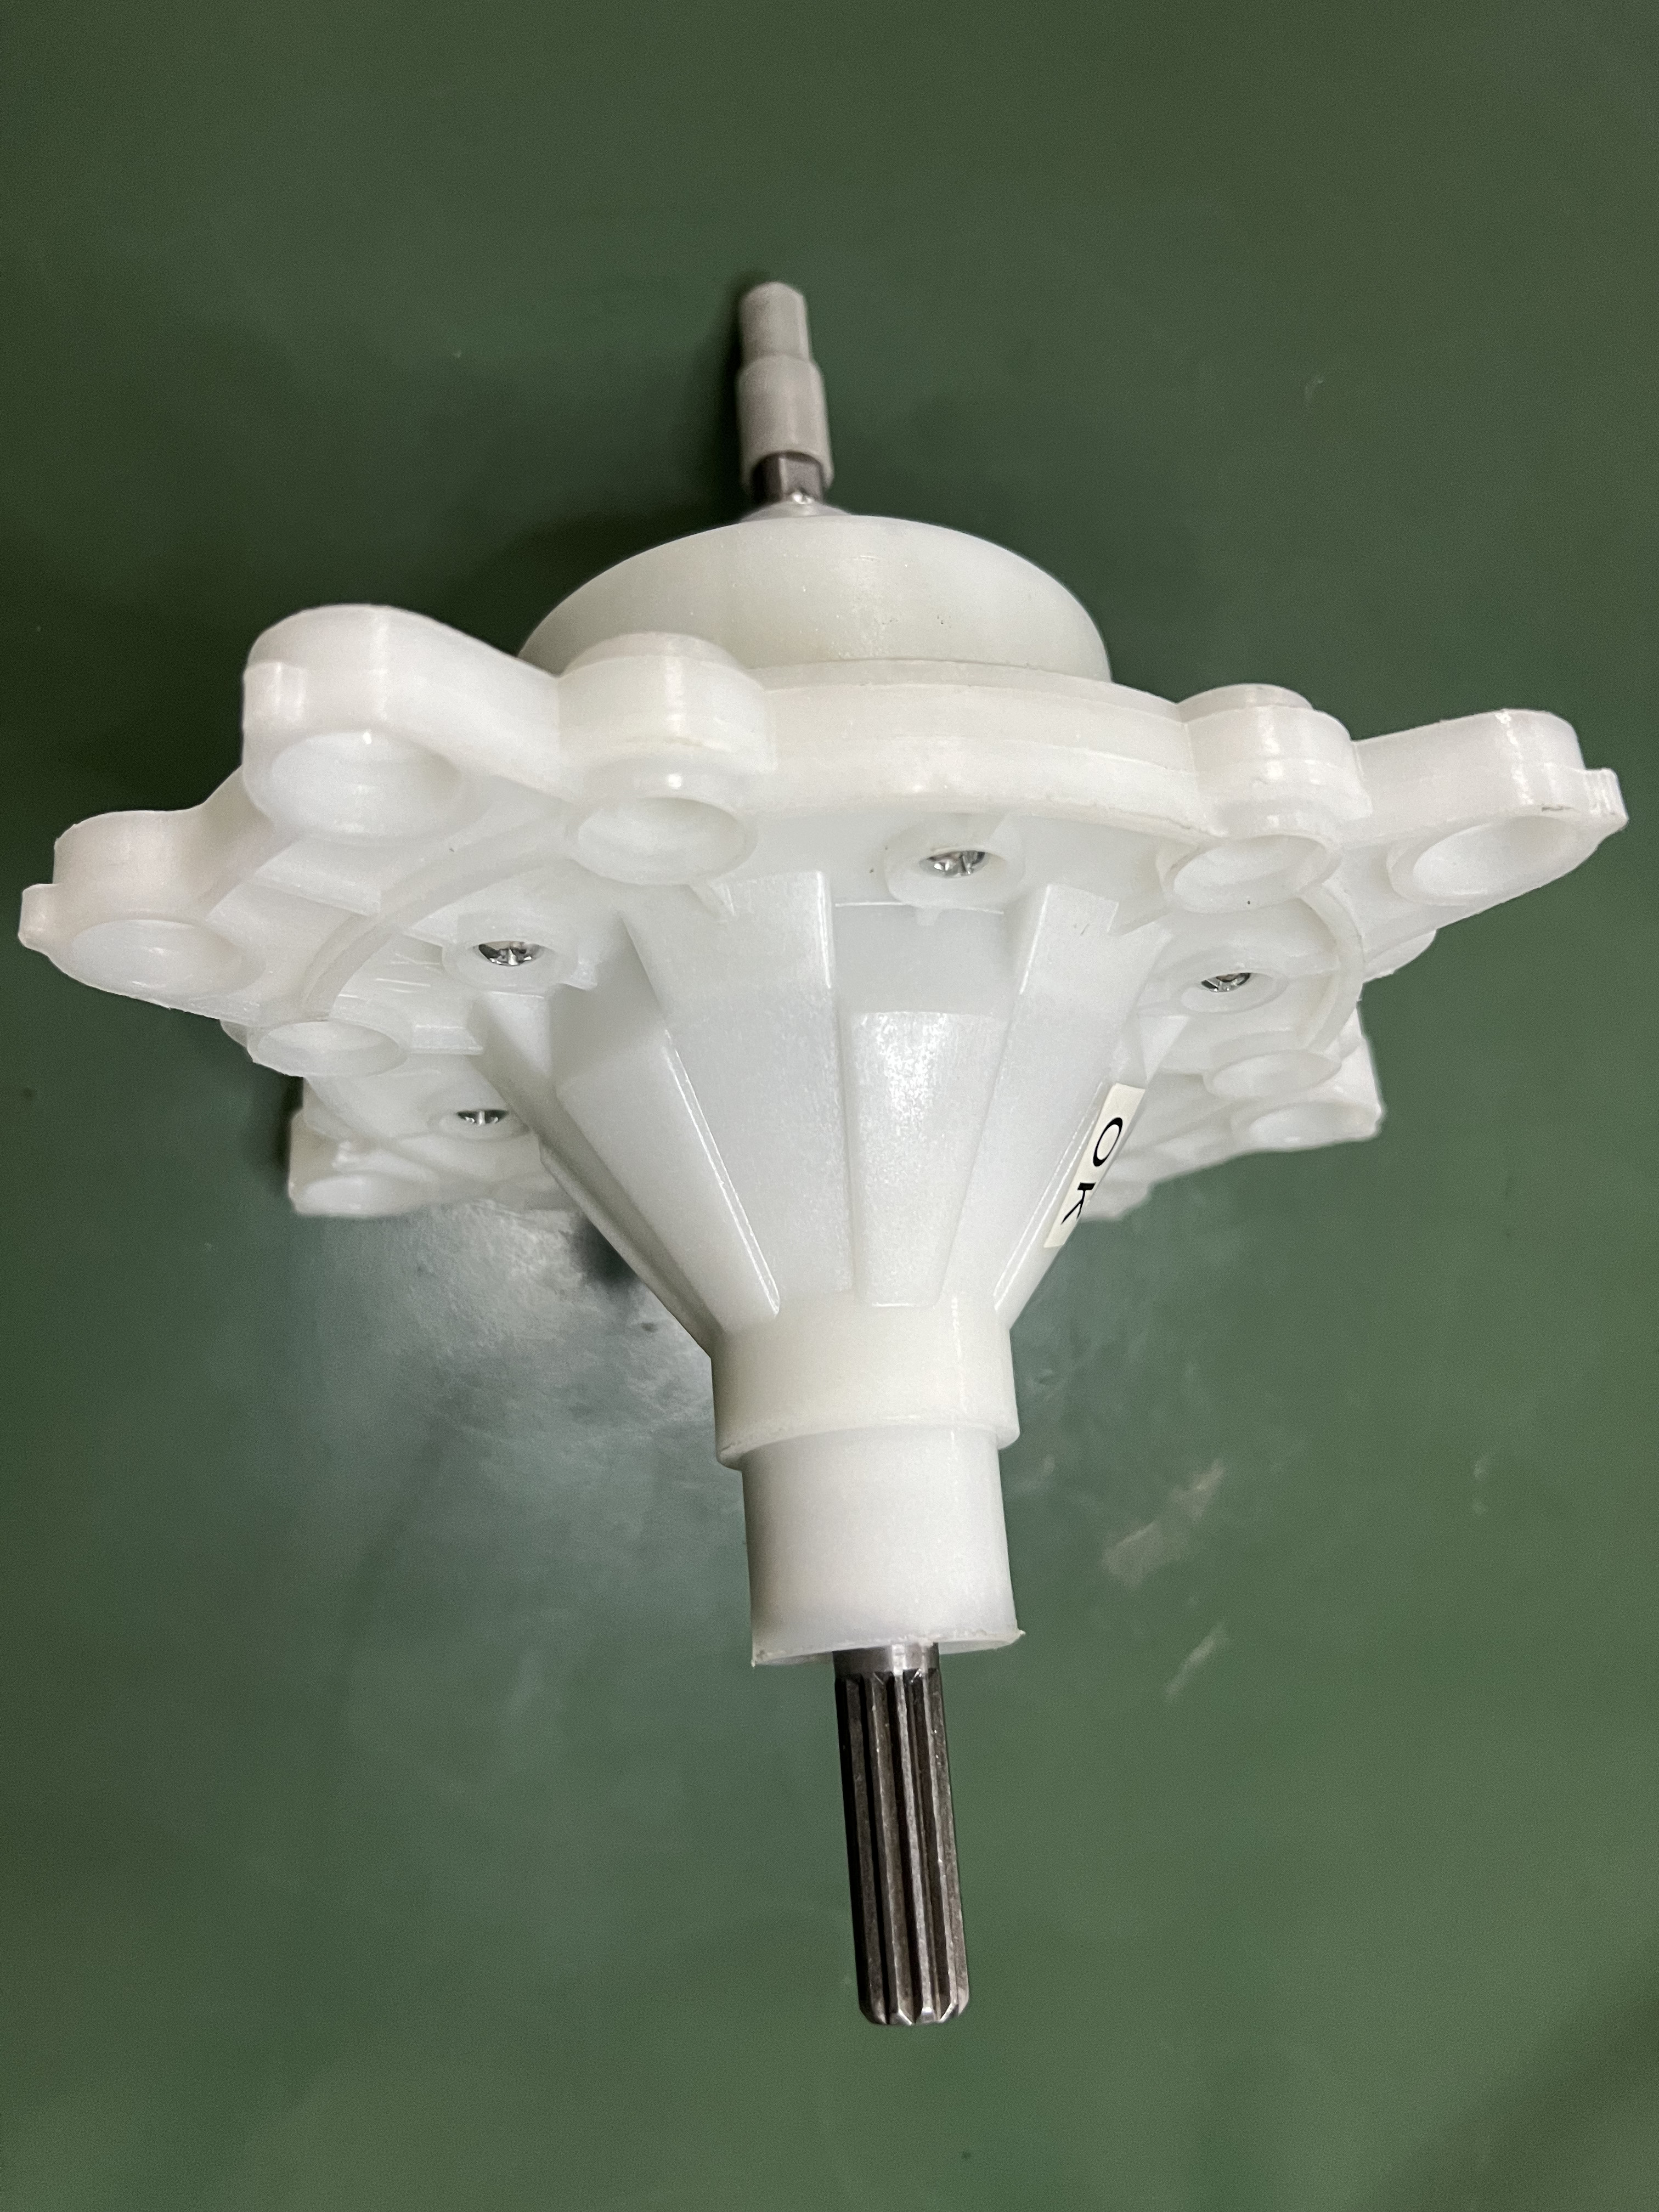gear_box_design: (31, 233, 1600, 2090)
